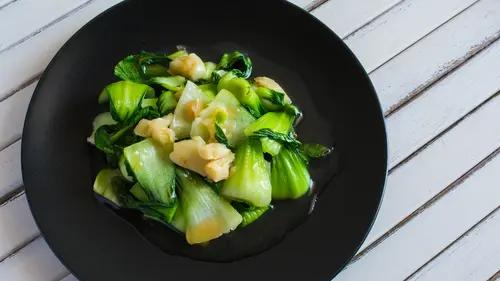buah_sayur_lainnya: (98, 84, 298, 197)
